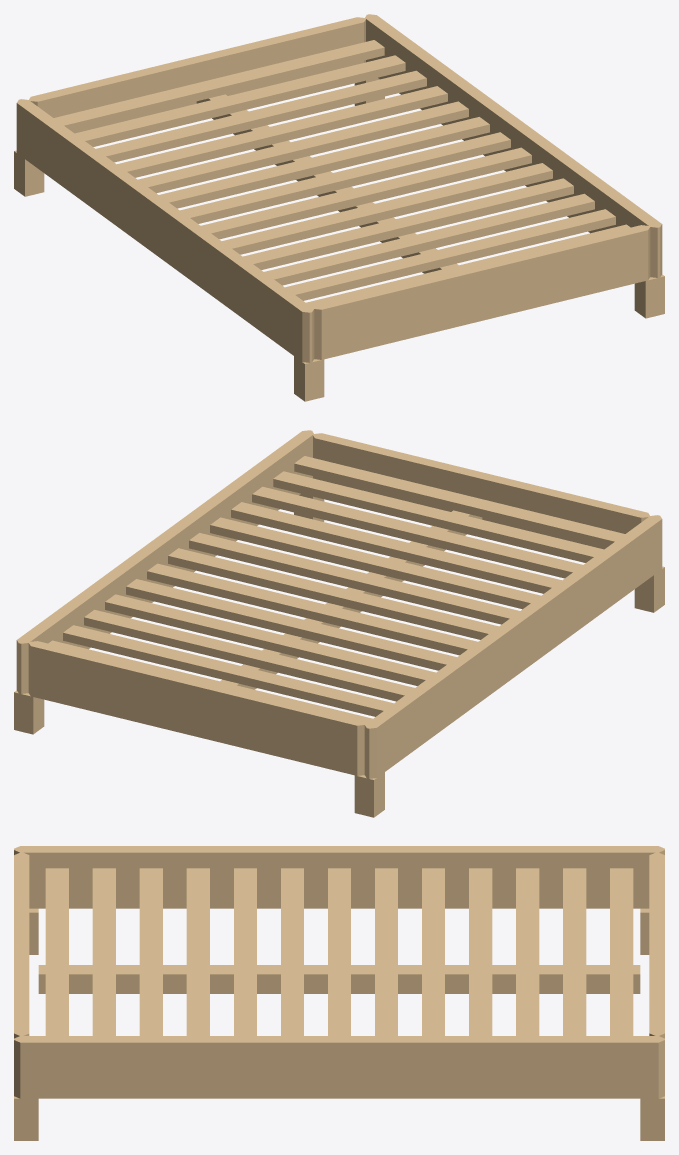
The model's file is SM_LPI_Bed_Base_01.fbx.
The picture shows the model from 3 angles, top to bottom: view 1: azimuth 30°, elevation 25°; view 2: azimuth 150°, elevation 25°; view 3: azimuth 270°, elevation 25°; orthographic projection. The views are drawn at different scales.
Parts seen in each view (by area): view 1: SM_LPI_Bed_Base_01; view 2: SM_LPI_Bed_Base_01; view 3: SM_LPI_Bed_Base_01.
Part boxes in pixels (x1,y1,x2,y2): SM_LPI_Bed_Base_01: (14,14,664,401); SM_LPI_Bed_Base_01: (14,430,664,817); SM_LPI_Bed_Base_01: (14,846,664,1140).
Bounding box in the file's own units: 1.5 × 0.35 × 2.1.
